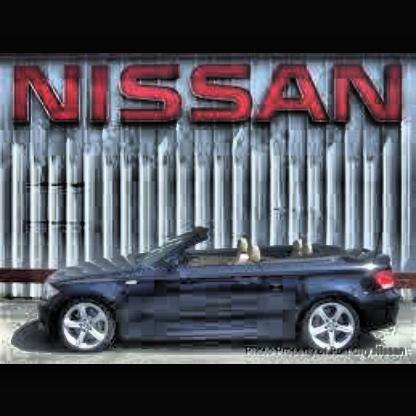BMW 1 Series Convertible 2012: (39, 227, 403, 358)
